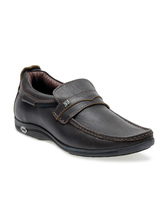shoes: (11, 63, 158, 158)
